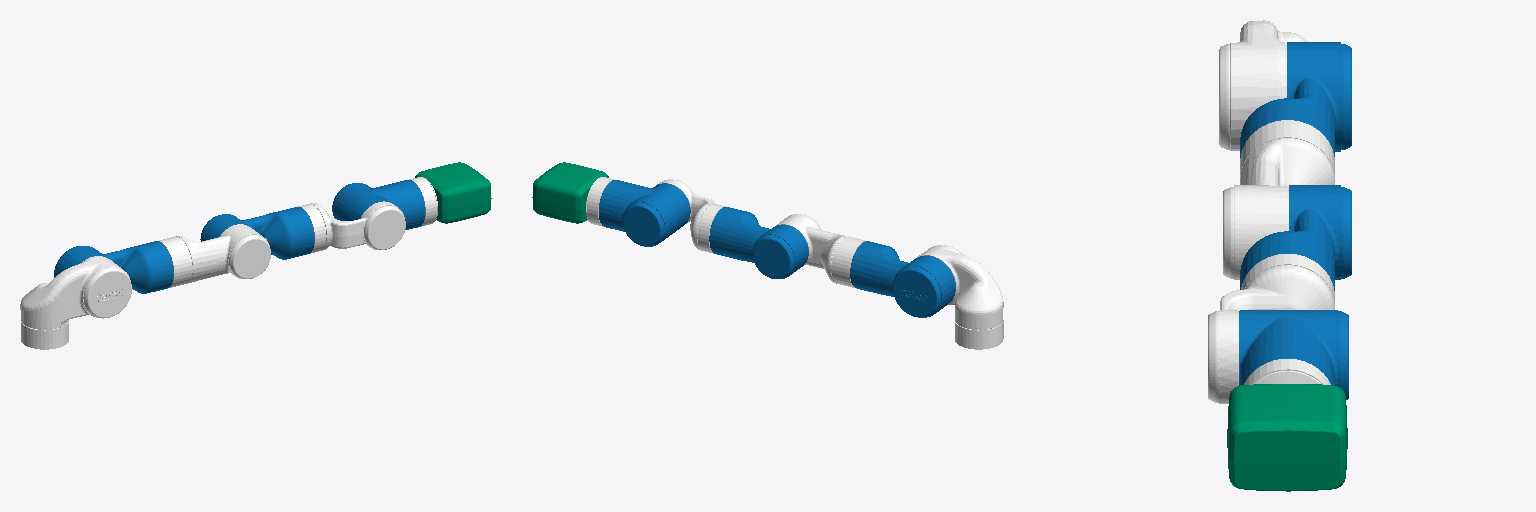
The robot description file, URDF, robot "fetch":
<?xml version="1.0" ?>
<robot name="fetch">
  <link name="base_link">
    <inertial>
      <origin rpy="0 0 0" xyz="-0.0036 0.0 0.0014" />
      <mass value="70.1294" />
      <inertia ixx="1.225" ixy="0.0099" ixz="0.0062" iyy="1.2853" iyz="-0.0034" izz="0.987" />
    </inertial>
    <visual>
      <origin rpy="0 0 0" xyz="0 0 0" />
      <geometry>
        <mesh filename="../meshes/base_link.dae" />
      </geometry>
      <material name="mat0">
        <color rgba="0.356 0.361 0.376 1" />
      </material>
    </visual>
    <collision>
      <origin rpy="0 0 0" xyz="0 0 0.4" />
      <geometry>
        <!--<mesh filename="../meshes/base_link_collision.STL" />-->
        <cylinder length="0.8" radius="0.3"/>
      </geometry>
    </collision>
  </link>
  <link name="r_wheel_link">
    <inertial>
      <origin rpy="0 0 0" xyz="0 0 0" />
      <mass value="4.3542" />
      <inertia ixx="0.0045" ixy="0" ixz="0" iyy="0.005" iyz="0" izz="0.0045" />
    </inertial>
    <visual>
      <origin rpy="0 0 0" xyz="0 0 0" />
      <geometry>
        <mesh filename="../meshes/r_wheel_link.STL" />
      </geometry>
      <material name="mat1">
        <color rgba="0.086 0.506 0.767 1" />
      </material>
    </visual>
    <collision>
      <origin rpy="0 0 0" xyz="0 0 0" />
      <geometry>
        <mesh filename="../meshes/r_wheel_link_collision.STL" />
      </geometry>
    </collision>
  </link>
  <joint name="r_wheel_joint" type="continuous">
    <origin rpy="-6.123E-17 0 0" xyz="0.0012914 -0.18738 0.055325" />
    <parent link="base_link" />
    <child link="r_wheel_link" />
    <axis xyz="0 1 0" />
  <limit effort="8.85" velocity="17.4" /></joint>
  <link name="l_wheel_link">
    <inertial>
      <origin rpy="0 0 0" xyz="0 0 0" />
      <mass value="4.3542" />
      <inertia ixx="0.0045" ixy="0" ixz="0" iyy="0.005" iyz="0" izz="0.0045" />
    </inertial>
    <visual>
      <origin rpy="0 0 0" xyz="0 0 0" />
      <geometry>
        <mesh filename="../meshes/l_wheel_link.STL" />
      </geometry>
      <material name="mat2">
        <color rgba="0.086 0.506 0.767 1" />
      </material>
    </visual>
    <collision>
      <origin rpy="0 0 0" xyz="0 0 0" />
      <geometry>
        <mesh filename="../meshes/l_wheel_link_collision.STL" />
      </geometry>
    </collision>
  </link>
  <joint name="l_wheel_joint" type="continuous">
    <origin rpy="-6.123E-17 0 0" xyz="0.0012914 0.18738 0.055325" />
    <parent link="base_link" />
    <child link="l_wheel_link" />
    <axis xyz="0 1 0" />
  <limit effort="8.85" velocity="17.4" /></joint>
  <link name="shoulder_pan_link">
    <inertial>
      <origin rpy="0 0 0" xyz="0.0927 -0.0056 0.0564" />
      <mass value="2.5587" />
      <inertia ixx="0.0043" ixy="-0.0001" ixz="0.001" iyy="0.0087" iyz="-0.0001" izz="0.0087" />
    </inertial>
    <visual>
      <origin rpy="0 0 0" xyz="0 0 0" />
      <geometry>
        <mesh filename="../meshes/shoulder_pan_link.dae" />
      </geometry>
      <material name="6">
        <color rgba="1 1 1 1" />
      </material>
    </visual>
  </link>
  <joint name="shoulder_pan_joint" type="revolute">
    <origin rpy="0 0 0" xyz="0.119525 0 0.84858" />
    <parent link="base_link" />
    <child link="shoulder_pan_link" />
    <axis xyz="0 0 1" />
    <dynamics damping="1.0" />
    <limit effort="33.82" lower="-1.6056" upper="1.6056" velocity="1.256" />
  </joint>
  <link name="shoulder_lift_link">
    <inertial>
      <origin rpy="0 0 0" xyz="0.1432 0.0072 -0.0001" />
      <mass value="0.6615" />
      <inertia ixx="0.0028" ixy="-0.0021" ixz="-0.0" iyy="0.0111" iyz="-0.0" izz="0.0112" />
    </inertial>
    <visual>
      <origin rpy="0 0 0" xyz="0 0 0" />
      <geometry>
        <mesh filename="../meshes/shoulder_lift_link.dae" />
      </geometry>
      <material name="7">
        <color rgba="0.086 0.506 0.767 1" />
      </material>
    </visual>
    <collision>
      <origin rpy="0 0 0" xyz="0 0 0" />
      <geometry>
        <mesh filename="../meshes/shoulder_lift_link_collision.STL" />
      </geometry>
    </collision>
  </link>
  <joint name="shoulder_lift_joint" type="revolute">
    <origin rpy="0 0 0" xyz="0.117 0 0.0599999999999999" />
    <parent link="shoulder_pan_link" />
    <child link="shoulder_lift_link" />
    <axis xyz="0 1 0" />
    <dynamics damping="1.0" />
    <limit effort="131.76" lower="-1.221" upper="1.518" velocity="1.454" />
  </joint>
  <link name="upperarm_roll_link">
    <inertial>
      <origin rpy="0 0 0" xyz="0.1165 0.0014 0.0000" />
      <mass value="2.3311" />
      <inertia ixx="0.0019" ixy="-0.0001" ixz="0.0" iyy="0.0045" iyz="0.0" izz="0.0047" />
    </inertial>
    <visual>
      <origin rpy="0 0 0" xyz="0 0 0" />
      <geometry>
        <mesh filename="../meshes/upperarm_roll_link.dae" />
      </geometry>
      <material name="8">
        <color rgba="1 1 1 1" />
      </material>
    </visual>
    <collision>
      <origin rpy="0 0 0" xyz="0 0 0" />
      <geometry>
        <mesh filename="../meshes/upperarm_roll_link_collision.STL" />
      </geometry>
    </collision>
  </link>
  <joint name="upperarm_roll_joint" type="continuous">
    <origin rpy="0 0 0" xyz="0.219 0 0" />
    <parent link="shoulder_lift_link" />
    <child link="upperarm_roll_link" />
    <axis xyz="1 0 0" />
    <dynamics damping="5.0" />
    <limit effort="76.94" velocity="1.571" />
  </joint>
  <link name="elbow_flex_link">
    <inertial>
      <origin rpy="0 0 0" xyz="0.1279 0.0073 0.0000" />
      <mass value="0.1299" />
      <inertia ixx="0.0024" ixy="-0.0016" ixz="0.0" iyy="0.0082" iyz="-0.0" izz="0.0084" />
    </inertial>
    <visual>
      <origin rpy="0 0 0" xyz="0 0 0" />
      <geometry>
        <mesh filename="../meshes/elbow_flex_link.dae" />
      </geometry>
      <material name="9">
        <color rgba="0.086 0.506 0.767 1" />
      </material>
    </visual>
    <collision>
      <origin rpy="0 0 0" xyz="0 0 0" />
      <geometry>
        <mesh filename="../meshes/elbow_flex_link_collision.STL" />
      </geometry>
    </collision>
  </link>
  <joint name="elbow_flex_joint" type="revolute">
    <origin rpy="0 0 0" xyz="0.133 0 0" />
    <parent link="upperarm_roll_link" />
    <child link="elbow_flex_link" />
    <axis xyz="0 1 0" />
    <dynamics damping="1.0" />
    <limit effort="66.18" lower="-2.251" upper="2.251" velocity="1.521" />
  </joint>
  <link name="forearm_roll_link">
    <inertial>
      <origin rpy="0 0 0" xyz="0.1097 -0.0266 0.0000" />
      <mass value="0.6563" />
      <inertia ixx="0.0016" ixy="-0.0003" ixz="0.0" iyy="0.003" iyz="-0.0" izz="0.0035" />
    </inertial>
    <visual>
      <origin rpy="0 0 0" xyz="0 0 0" />
      <geometry>
        <mesh filename="../meshes/forearm_roll_link.dae" />
      </geometry>
      <material name="10">
        <color rgba="1 1 1 1" />
      </material>
    </visual>
    <collision>
      <origin rpy="0 0 0" xyz="0 0 0" />
      <geometry>
        <mesh filename="../meshes/forearm_roll_link_collision.STL" />
      </geometry>
    </collision>
  </link>
  <joint name="forearm_roll_joint" type="continuous">
    <origin rpy="0 0 0" xyz="0.197 0 0" />
    <parent link="elbow_flex_link" />
    <child link="forearm_roll_link" />
    <axis xyz="1 0 0" />
    <dynamics damping="5.0" />
    <limit effort="29.35" velocity="1.571" />
  </joint>
  <link name="wrist_flex_link">
    <inertial>
      <origin rpy="0 0 0" xyz="0.0882 0.0009 -0.0001" />
      <mass value="0.725" />
      <inertia ixx="0.0018" ixy="-0.0001" ixz="-0.0" iyy="0.0042" iyz="0.0" izz="0.0042" />
    </inertial>
    <visual>
      <origin rpy="0 0 0" xyz="0 0 0" />
      <geometry>
        <mesh filename="../meshes/wrist_flex_link.dae" />
      </geometry>
      <material name="11">
        <color rgba="0.086 0.506 0.767 1" />
      </material>
    </visual>
    <collision>
      <origin rpy="0 0 0" xyz="0 0 0" />
      <geometry>
        <mesh filename="../meshes/wrist_flex_link_collision.STL" />
      </geometry>
    </collision>
  </link>
  <joint name="wrist_flex_joint" type="revolute">
    <origin rpy="0 0 0" xyz="0.1245 0 0" />
    <parent link="forearm_roll_link" />
    <child link="wrist_flex_link" />
    <axis xyz="0 1 0" />
    <dynamics damping="1.0" />
    <limit effort="25.7" lower="-2.16" upper="2.16" velocity="2.268" />
  </joint>
  <link name="wrist_roll_link">
    <inertial>
      <origin rpy="0 0 0" xyz="0.0095 0.0004 -0.0002" />
      <mass value="0.1354" />
      <inertia ixx="0.0001" ixy="0.0" ixz="0.0" iyy="0.0001" iyz="0.0" izz="0.0001" />
    </inertial>
    <visual>
      <origin rpy="0 0 0" xyz="0 0 0" />
      <geometry>
        <mesh filename="../meshes/wrist_roll_link.dae" />
      </geometry>
      <material name="12">
        <color rgba="1 1 1 1" />
      </material>
    </visual>
    <collision>
      <origin rpy="0 0 0" xyz="0 0 0" />
      <geometry>
        <mesh filename="../meshes/wrist_roll_link_collision.STL" />
      </geometry>
    </collision>
  </link>
  <joint name="wrist_roll_joint" type="continuous">
    <origin rpy="0 0 0" xyz="0.1385 0 0" />
    <parent link="wrist_flex_link" />
    <child link="wrist_roll_link" />
    <axis xyz="1 0 0" />
    <limit effort="7.36" velocity="2.268" />
    <dynamics damping="5.0" />
  </joint>
  <link name="gripper_link">
    <inertial>
      <origin rpy="0 0 0" xyz="-0.0900 -0.0001 -0.0017" />
      <mass value="0.5175" />
      <inertia ixx="0.0013" ixy="-0.0" ixz="0.0" iyy="0.0019" iyz="-0.0" izz="0.0024" />
    </inertial>
    <visual>
      <origin rpy="0 0 0" xyz="0 0 0" />
      <geometry>
        <mesh filename="../meshes/gripper_link.dae" />
      </geometry>
    </visual>
    <collision>
      <origin rpy="0 0 0" xyz="0 0 0" />
      <geometry>
        <mesh filename="../meshes/gripper_link.STL" />
      </geometry>
    </collision>
  </link>
  <joint name="gripper_axis" type="fixed">
    <origin rpy="0 0 0" xyz="0.16645 0 0" />
    <parent link="wrist_roll_link" />
    <child link="gripper_link" />
    <axis xyz="0 1 0" />
  </joint>
  <link name="r_gripper_finger_link">
    <inertial>
      <origin rpy="0 0 0" xyz="-0.01 0 0" />
      <mass value="0.0798" />
      <inertia ixx="0.002" ixy="0" ixz="0" iyy="0" iyz="0" izz="0" />
    </inertial>
    <visual>
      <origin rpy="0 0 0" xyz="0 0.101425 0" />
      <geometry>
        <mesh filename="../meshes/r_gripper_finger_link.STL" />
      </geometry>
      <material name="13">
        <color rgba="0.356 0.361 0.376 1" />
      </material>
    </visual>
    <collision>
      <origin rpy="0 0 0" xyz="0 0.101425 0" />
      <geometry>
        <mesh filename="../meshes/r_gripper_finger_link.STL" />
      </geometry>
    </collision>
  </link>
  <joint name="r_gripper_finger_joint" type="prismatic">
    <origin rpy="0 0 0" xyz="0 0.015425 0" />
    <parent link="gripper_link" />
    <child link="r_gripper_finger_link" />
    <axis xyz="0 1 0" />
  <limit effort="60" lower="0.0" upper="0.05" velocity="0.05" /><dynamics damping="100.0" /></joint>
  <link name="l_gripper_finger_link">
    <inertial>
      <origin rpy="0 0 0" xyz="-0.01 0 0" />
      <mass value="0.0798" />
      <inertia ixx="0.002" ixy="0" ixz="0" iyy="0" iyz="0" izz="0" />
    </inertial>
    <visual>
      <origin rpy="0 0 0" xyz="0 -0.101425 0" />
      <geometry>
        <mesh filename="../meshes/l_gripper_finger_link.STL" />
      </geometry>
      <material name="14">
        <color rgba="0.356 0.361 0.376 1" />
      </material>
    </visual>
    <collision>
      <origin rpy="0 0 0" xyz="0 -0.101425 0" />
      <geometry>
        <mesh filename="../meshes/l_gripper_finger_link.STL" />
      </geometry>
    </collision>
  </link>
  <joint name="l_gripper_finger_joint" type="prismatic">
    <origin rpy="0 0 0" xyz="0 -0.015425 0" />
    <parent link="gripper_link" />
    <child link="l_gripper_finger_link" />
    <axis xyz="0 -1 0" />
  <limit effort="60" lower="0.0" upper="0.05" velocity="0.05" /><dynamics damping="100.0" /></joint>
</robot>

--- Render facts (derived) ---
The picture shows the robot from 3 angles, left to right: view 1: azimuth 30°, elevation 25°; view 2: azimuth 150°, elevation 25°; view 3: azimuth 270°, elevation 25°; orthographic projection.
Robot: fetch — 13 links, 12 joints (4 revolute, 5 continuous, 2 prismatic, 1 fixed); root link base_link; default pose: all joints at 0.
Visible links, largest first — view 1: shoulder_pan_link, upperarm_roll_link, forearm_roll_link, elbow_flex_link, gripper_link, shoulder_lift_link, wrist_flex_link, wrist_roll_link; view 2: shoulder_lift_link, elbow_flex_link, wrist_flex_link, shoulder_pan_link, gripper_link, upperarm_roll_link, forearm_roll_link, wrist_roll_link; view 3: gripper_link, upperarm_roll_link, forearm_roll_link, shoulder_lift_link, wrist_flex_link, shoulder_pan_link, elbow_flex_link, wrist_roll_link.
Link boxes in pixels (left/top/right/bottom): shoulder_pan_link: left=20, top=256, right=131, bottom=349; upperarm_roll_link: left=159, top=224, right=270, bottom=288; forearm_roll_link: left=298, top=201, right=405, bottom=253; elbow_flex_link: left=200, top=207, right=314, bottom=259; gripper_link: left=415, top=162, right=491, bottom=223; shoulder_lift_link: left=54, top=241, right=173, bottom=293; wrist_flex_link: left=332, top=180, right=424, bottom=229; wrist_roll_link: left=409, top=177, right=437, bottom=226; shoulder_lift_link: left=850, top=241, right=955, bottom=317; elbow_flex_link: left=709, top=207, right=808, bottom=278; wrist_flex_link: left=599, top=180, right=690, bottom=246; shoulder_pan_link: left=915, top=245, right=1003, bottom=349; gripper_link: left=532, top=162, right=608, bottom=223; upperarm_roll_link: left=776, top=214, right=864, bottom=288; forearm_roll_link: left=657, top=179, right=725, bottom=253; wrist_roll_link: left=586, top=177, right=614, bottom=226; gripper_link: left=1227, top=384, right=1347, bottom=491; upperarm_roll_link: left=1223, top=120, right=1334, bottom=279; forearm_roll_link: left=1208, top=254, right=1334, bottom=403; shoulder_lift_link: left=1240, top=42, right=1351, bottom=157; wrist_flex_link: left=1239, top=310, right=1348, bottom=399; shoulder_pan_link: left=1219, top=20, right=1307, bottom=150; elbow_flex_link: left=1240, top=185, right=1351, bottom=290; wrist_roll_link: left=1244, top=359, right=1330, bottom=384.
Size in the robot's own frame: 1.12 by 0.1575 by 0.1685 metres.
Meshes: 13 distinct files referenced, 8 mesh visuals loaded (8 Collada DAE); not drawn: 5 (reference not matched to a file when rendering).